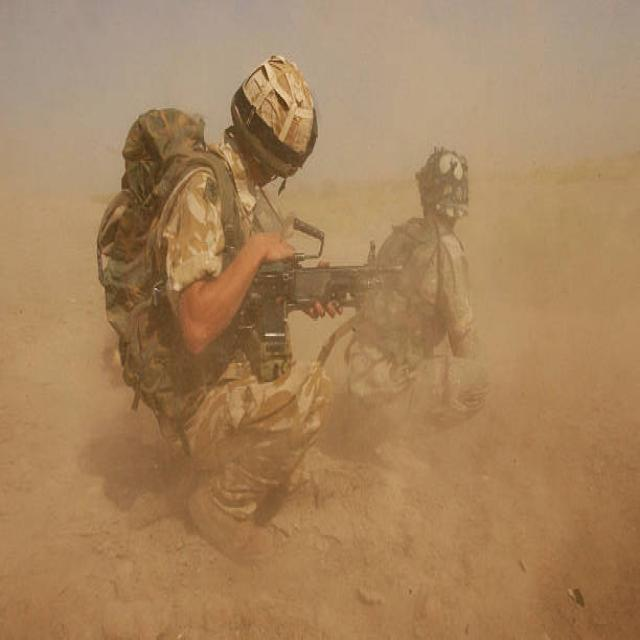soldier: (98, 56, 341, 551), (344, 146, 494, 476)
